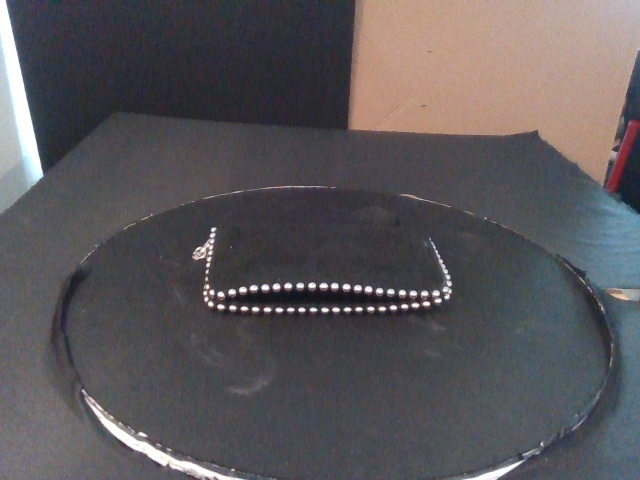bag: (203, 225, 452, 315)
